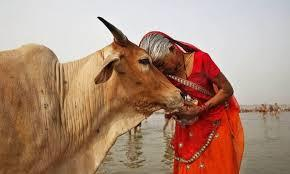cow: (0, 16, 185, 174)
